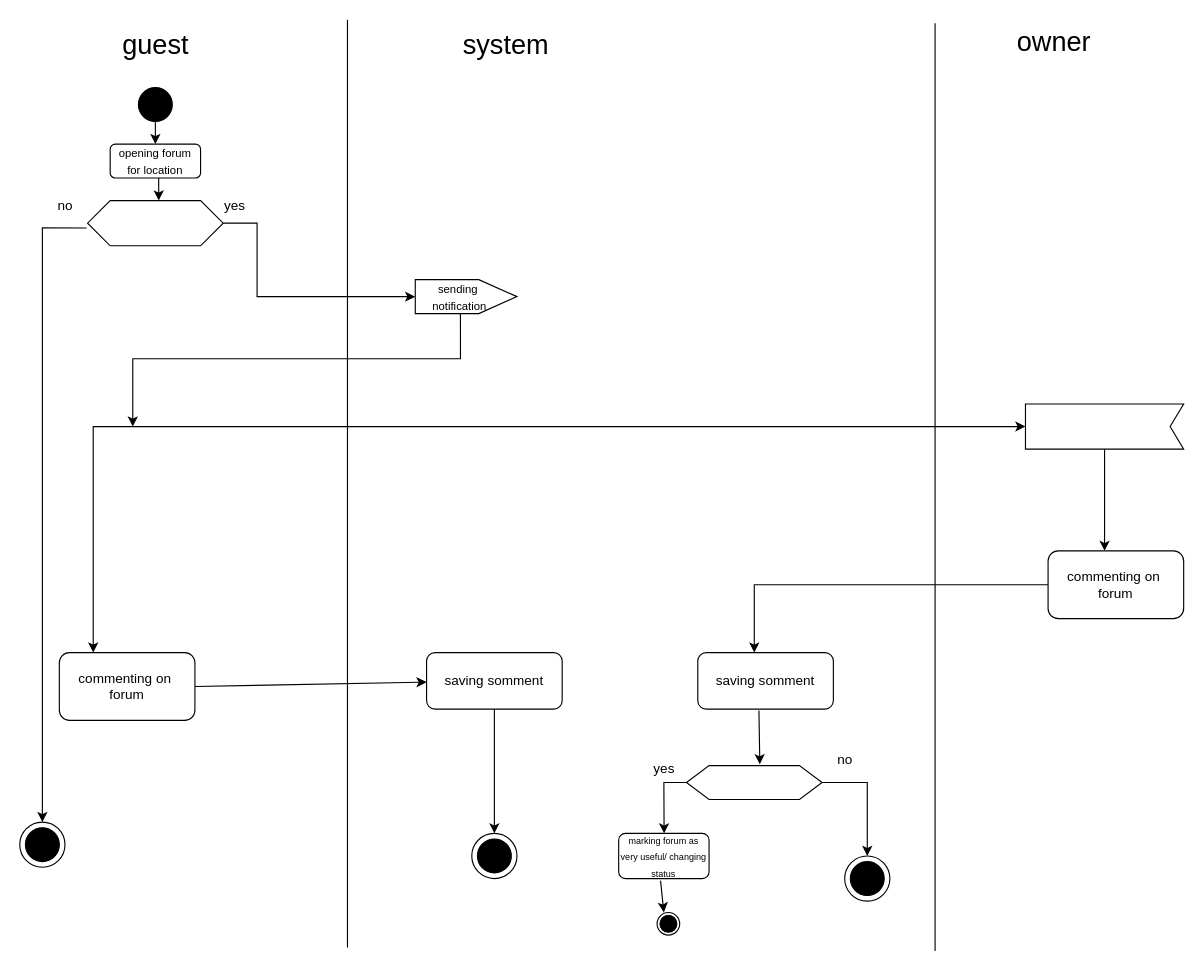
Some shapes in this 1203 by 972 pixel diagram are drawn without their labels. Here are the shapes that lost their labels. From the top down, the centre of each, then its label:
the point at 154,222: does owner have accommodation on that location
the point at 1104,426: getting notification
the point at 753,781: is forum very useful
